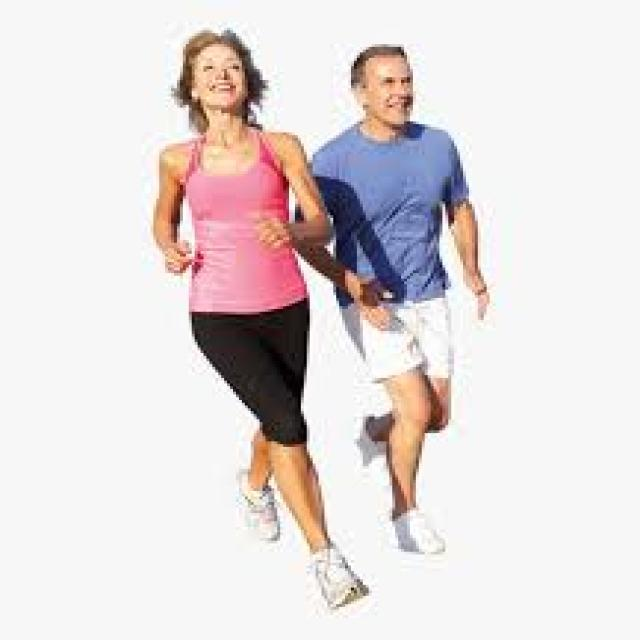running: (148, 26, 332, 614), (333, 40, 495, 556)
